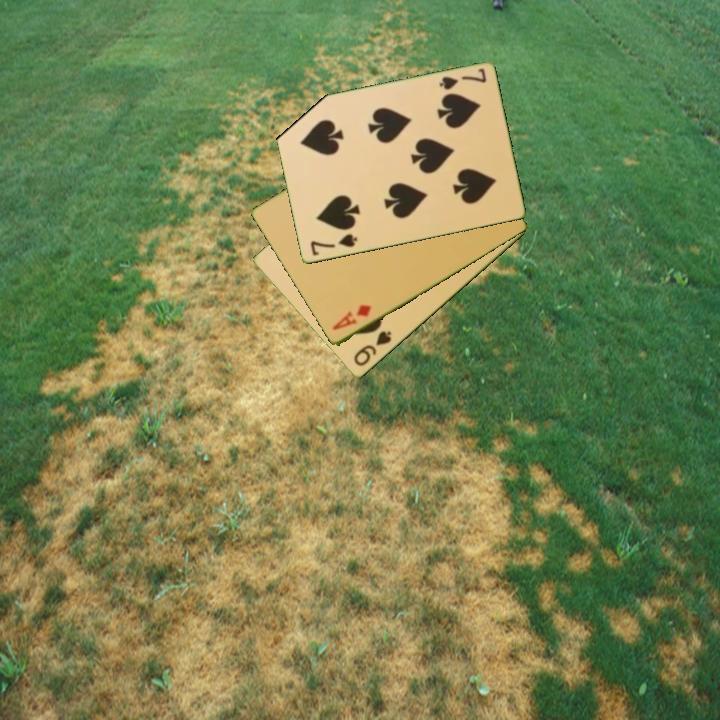7s: (435, 65, 489, 93), (307, 231, 360, 259)
9s: (350, 327, 395, 369)
Ad: (328, 301, 374, 334)
